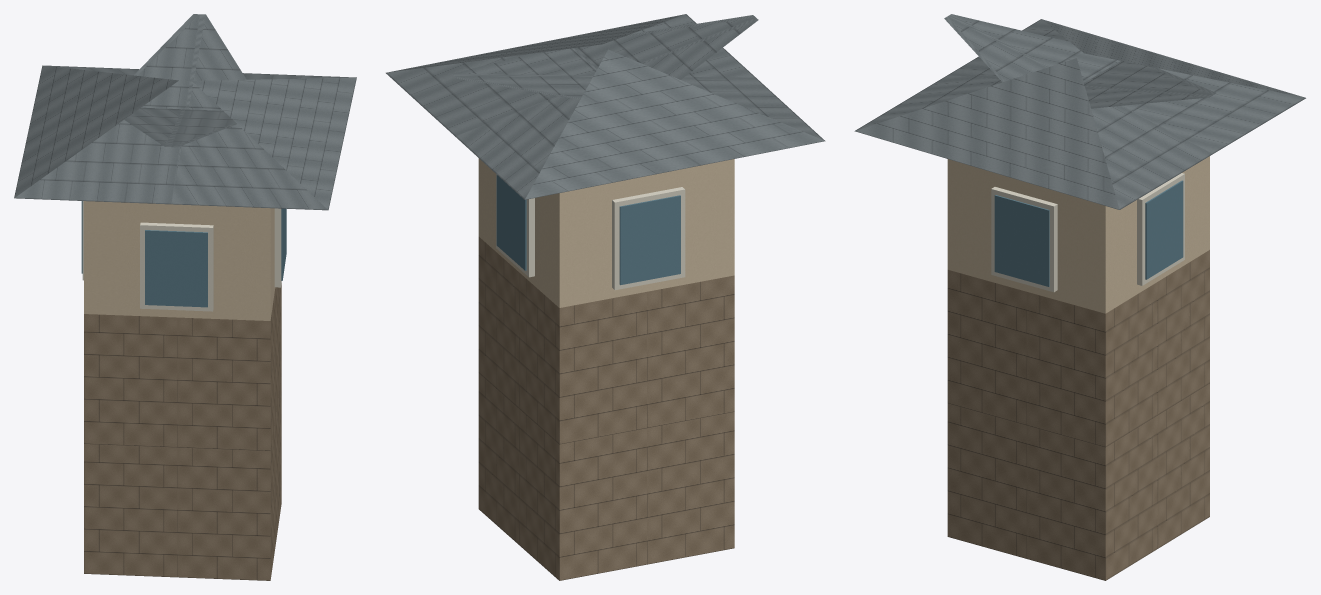
Rendered from core_0033.gltf.
3 views of the same model, side by side, from view 1: azimuth 30°, elevation 25°; view 2: azimuth 150°, elevation 25°; view 3: azimuth 270°, elevation 25° (orthographic). The views are drawn at different scales.
Parts seen in each view (by area): view 1: core_0033; view 2: core_0033; view 3: core_0033.
Boxes of the visible parts, box(x1,y1,x2,y2) form: core_0033: box(14, 14, 356, 580); core_0033: box(386, 14, 825, 580); core_0033: box(854, 14, 1305, 580).
Size of the model in its own units: 6.97 by 8 by 6.97.
5 materials, 5 textured.
